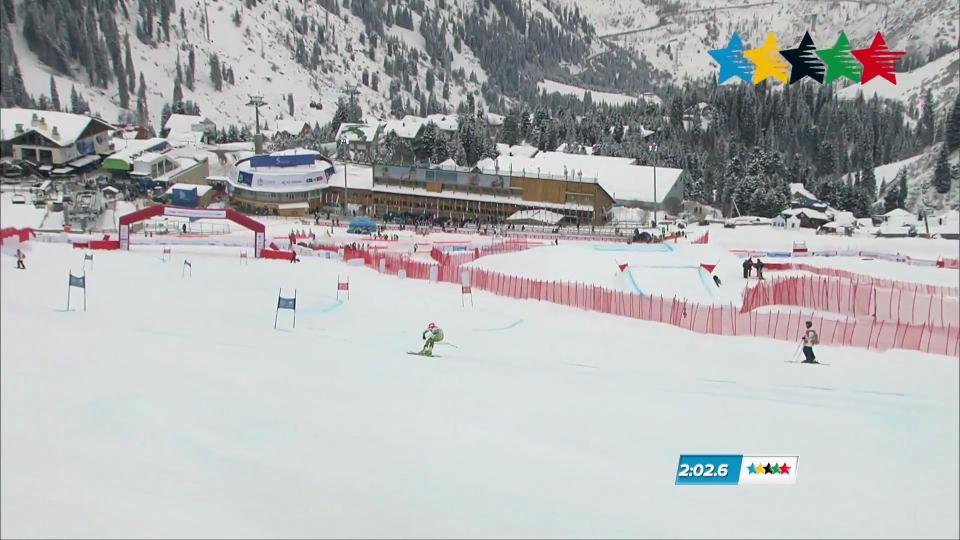gate: (291, 286, 301, 331), (273, 286, 282, 331)
